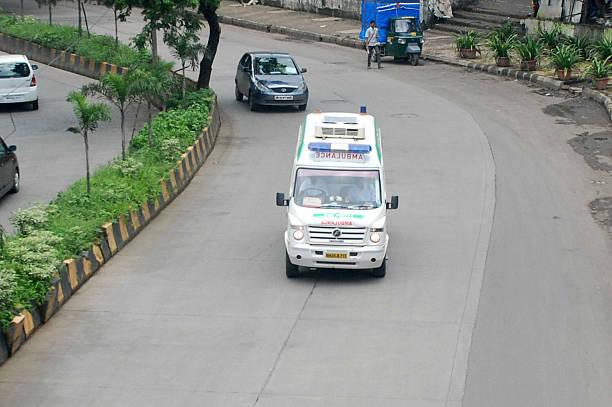AMBULANCE: (272, 110, 395, 295)
